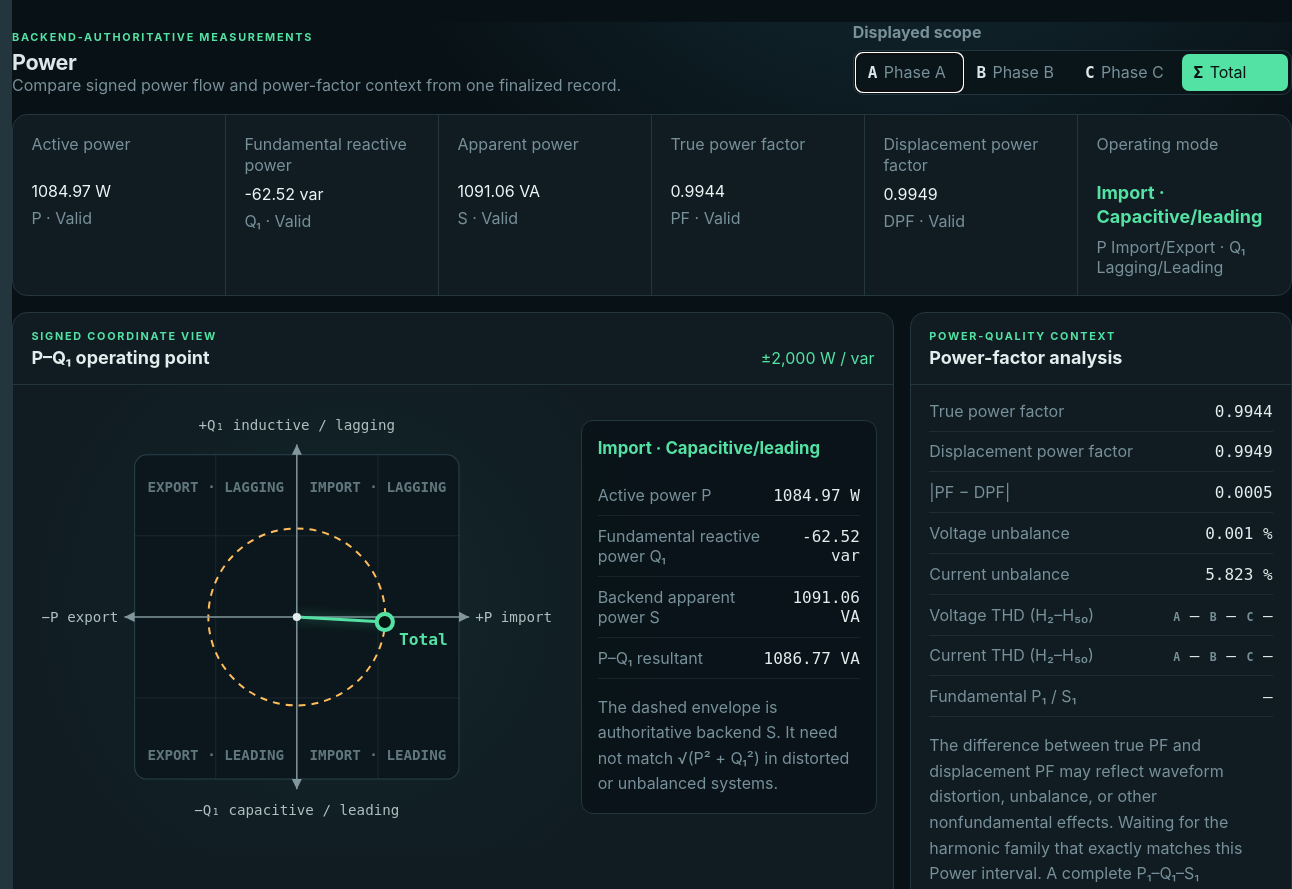
Test: Power view › switches scope with labeled native buttons and moves Phase A below/right
Click the button "A Phase A" at (909, 72), box [857,54,962,91]
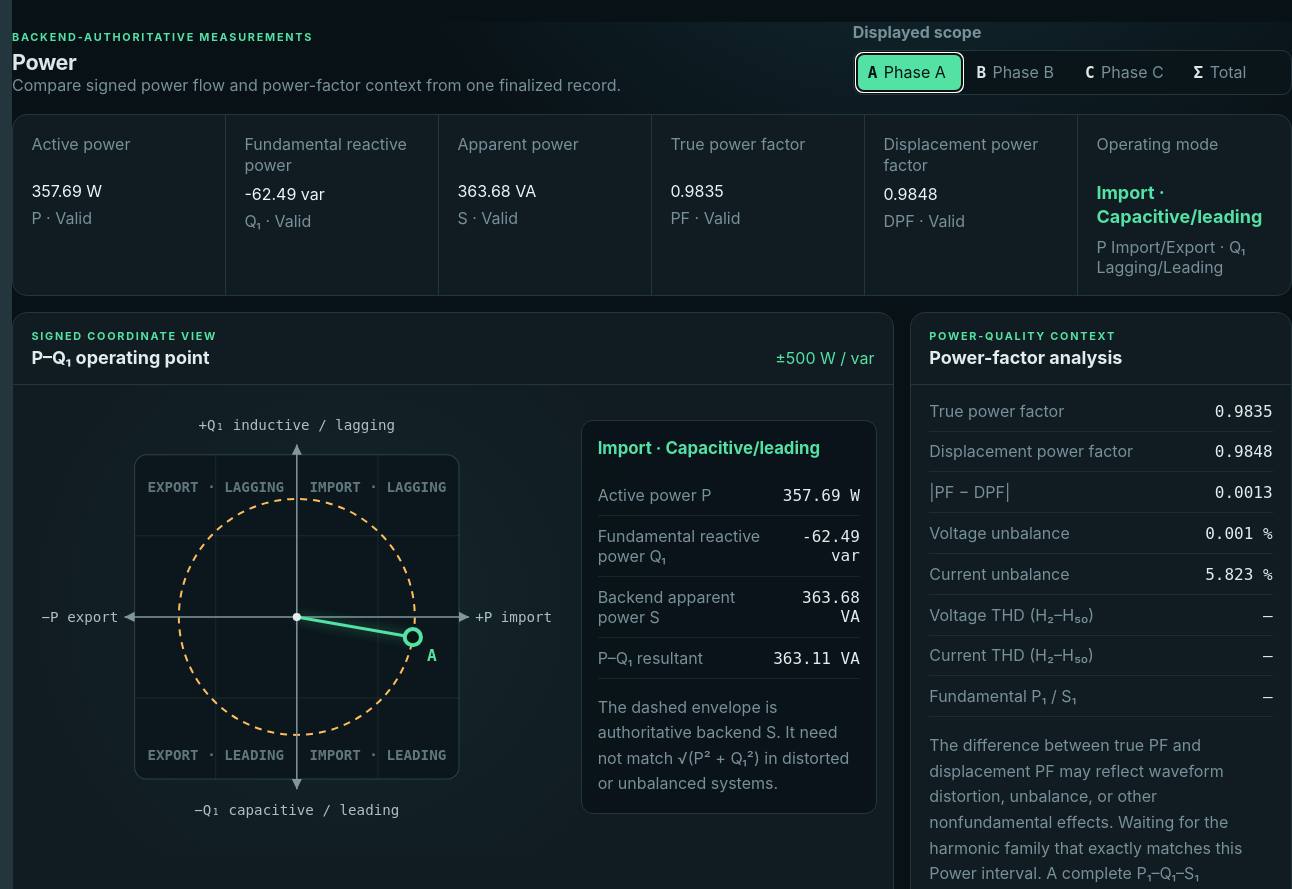
Expected: the picture named "Phase A P–Q₁ operating point" is shown, [13,399,581,835]
Result: the 1st text "357.69 W" is shown at [31,181,102,201]
Result: the 1st text "-62.49 var" is shown at [244,184,325,204]
